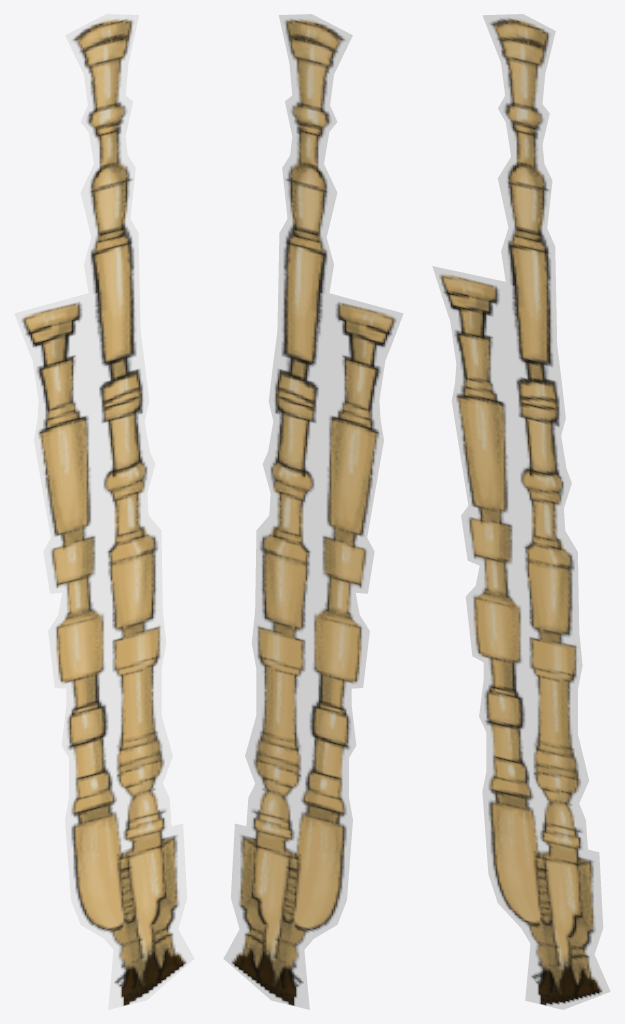
3 views of the same model, side by side, from view 1: azimuth 30°, elevation 25°; view 2: azimuth 150°, elevation 25°; view 3: azimuth 330°, elevation 25° (orthographic).
Parts seen in each view (by area): view 1: Plane; view 2: Plane; view 3: Plane.
Part boxes in pixels (x1,y1,x2,y2): Plane: (14,14,194,1009); Plane: (223,14,403,1009); Plane: (432,14,610,1009).
Bounding box in the file's own units: 0.8343 × 4.4 × 0.
1 material, 1 textured.
